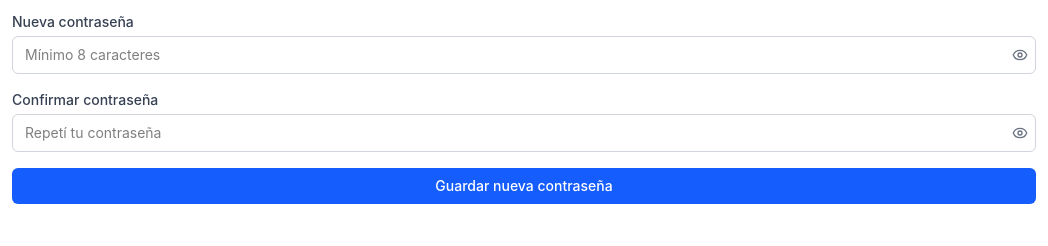
Test case: ForgotPasswordForm — reset phase › validates that confirm_password matches password
The image size is (1048, 246).
In the password field labelled "Nueva contraseña": [524, 55] box [12,36,1036,74], type "newpassword1"
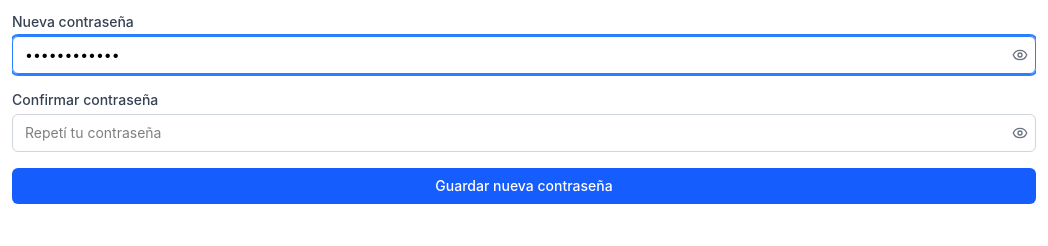
In the password field labelled "Confirmar contraseña": [524, 133] box [12,114,1036,152], type "differentpass1"
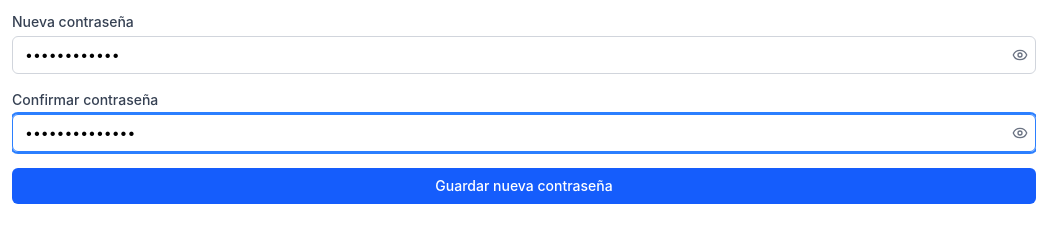
Click the button "Guardar nueva contraseña": [524, 186] box [12,168,1036,204]
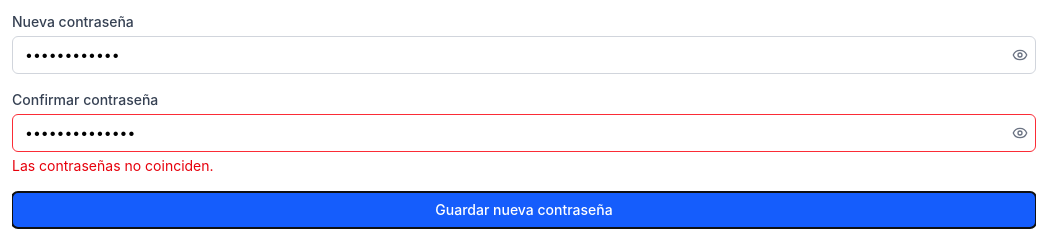
Expected: the text "Las contraseñas no coinciden." is shown, [12,157,214,174]
